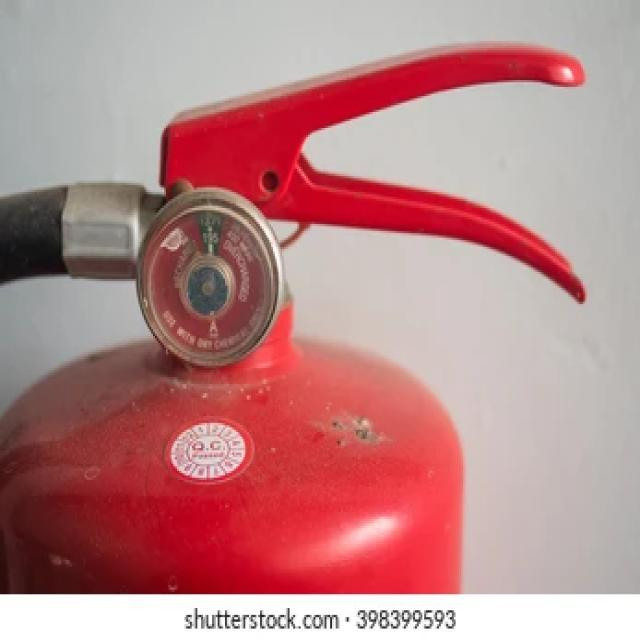pressure gauge: (139, 189, 283, 366)
